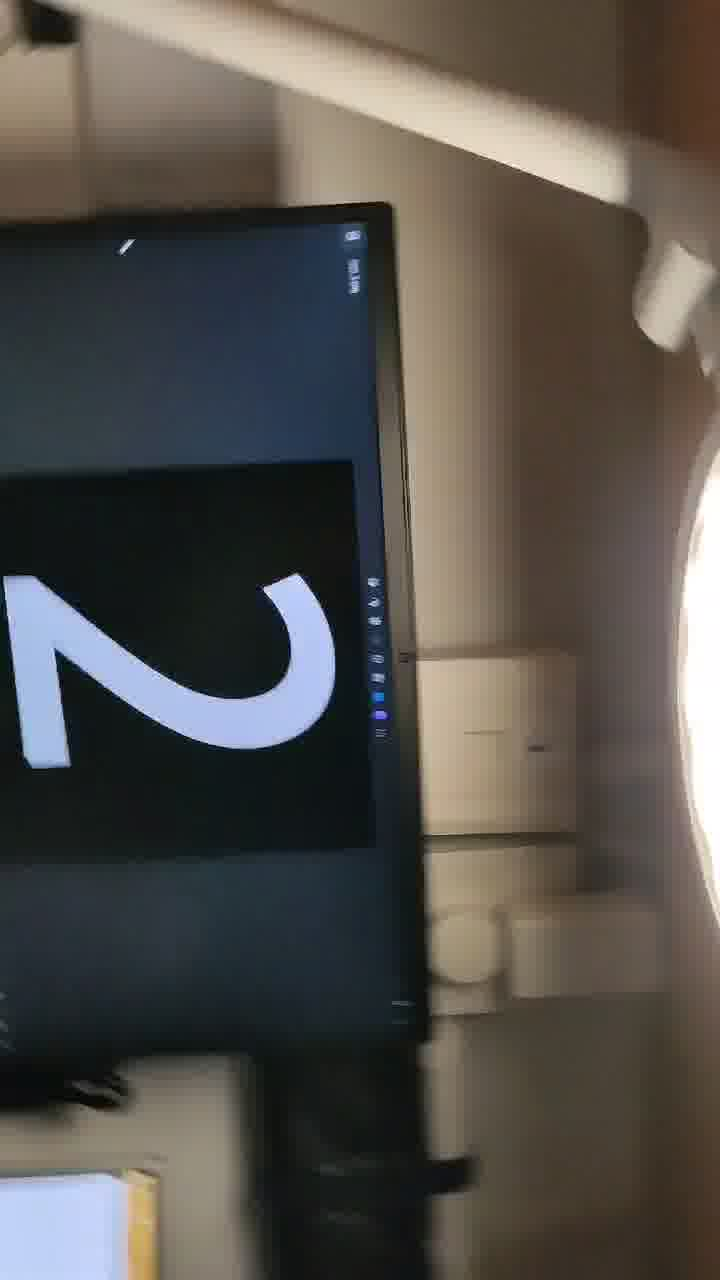two: (1, 355, 291, 699)
